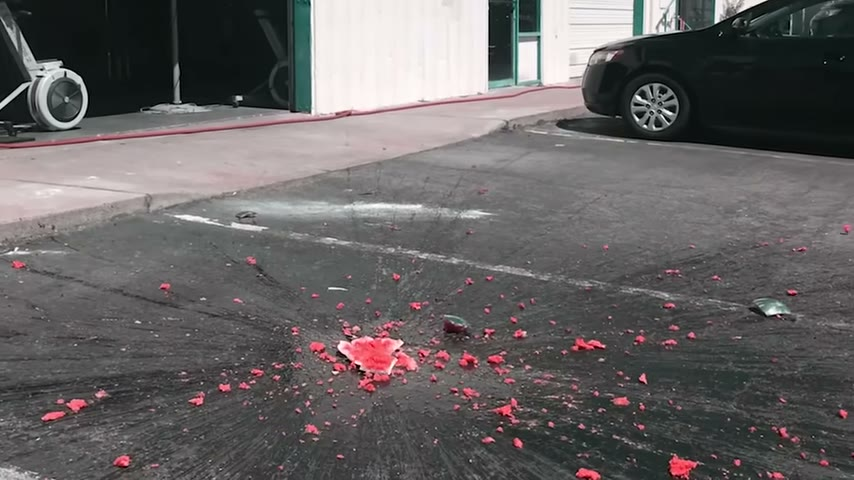barbell_plate_side: (4, 0, 98, 148)
